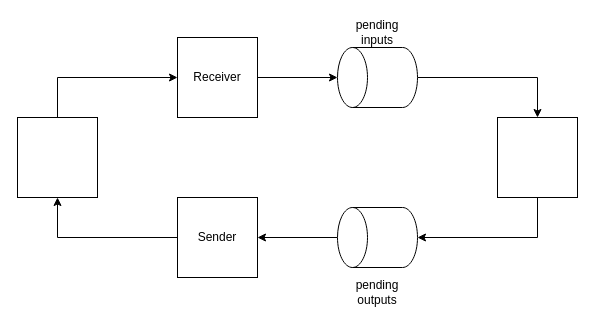
The diagram is 595 pixels wide and 324 high, and some of its shapes have lost their labels. The centre of each missing label's shape, as x and y in pixels:
"Client" belongs at (57,157).
"Worker" belongs at (537,157).
